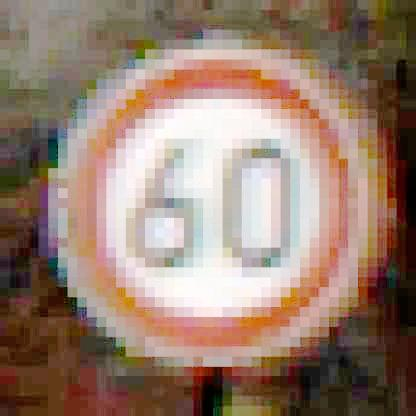Speed Limit -60-: (59, 43, 370, 367)
